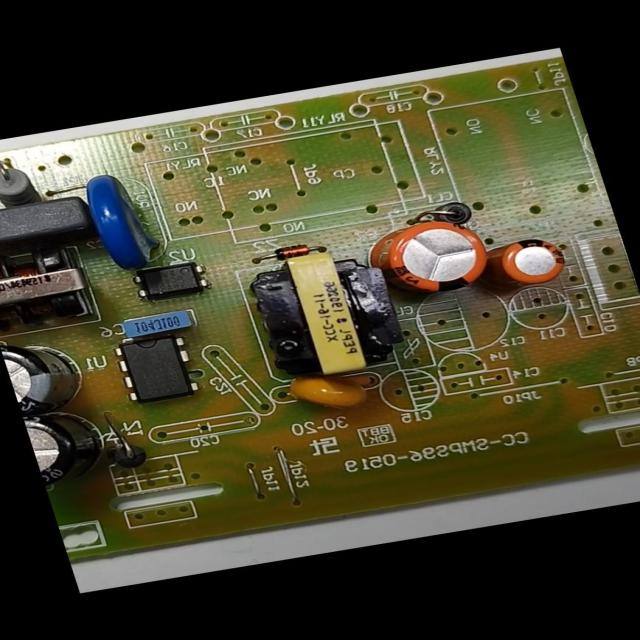Cap1: (356, 205, 510, 308)
Cap2: (480, 226, 588, 298)
Cap3: (0, 327, 113, 418)
Cap4: (21, 395, 132, 496)
MOSFET: (99, 321, 216, 413)
Mov: (72, 162, 188, 284)
Resistor: (0, 155, 46, 208)
Transformer: (211, 220, 437, 402), (0, 218, 128, 347)
